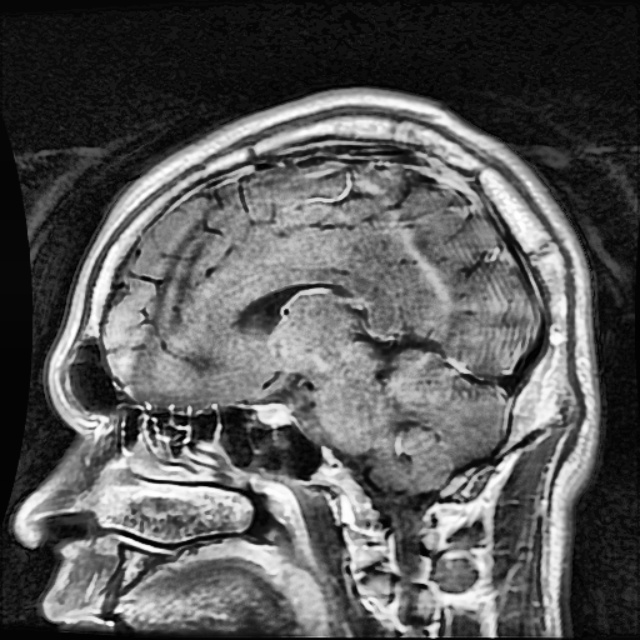Pituitary: (257, 403, 288, 423)
